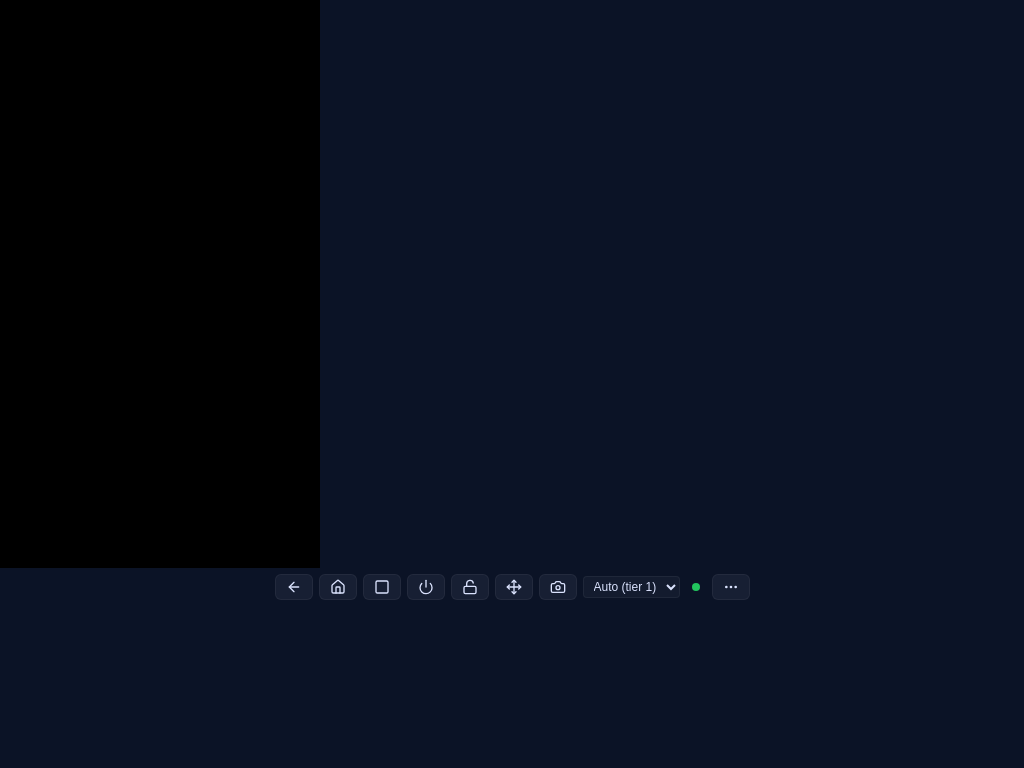
it: DeviceViewer — extraActions › defaults to overflow when placement is omitted
Expected: the button "Silent" is not shown
Click the button with test id "dv-overflow". click: (730, 587)
box: 712,574 -> 750,600
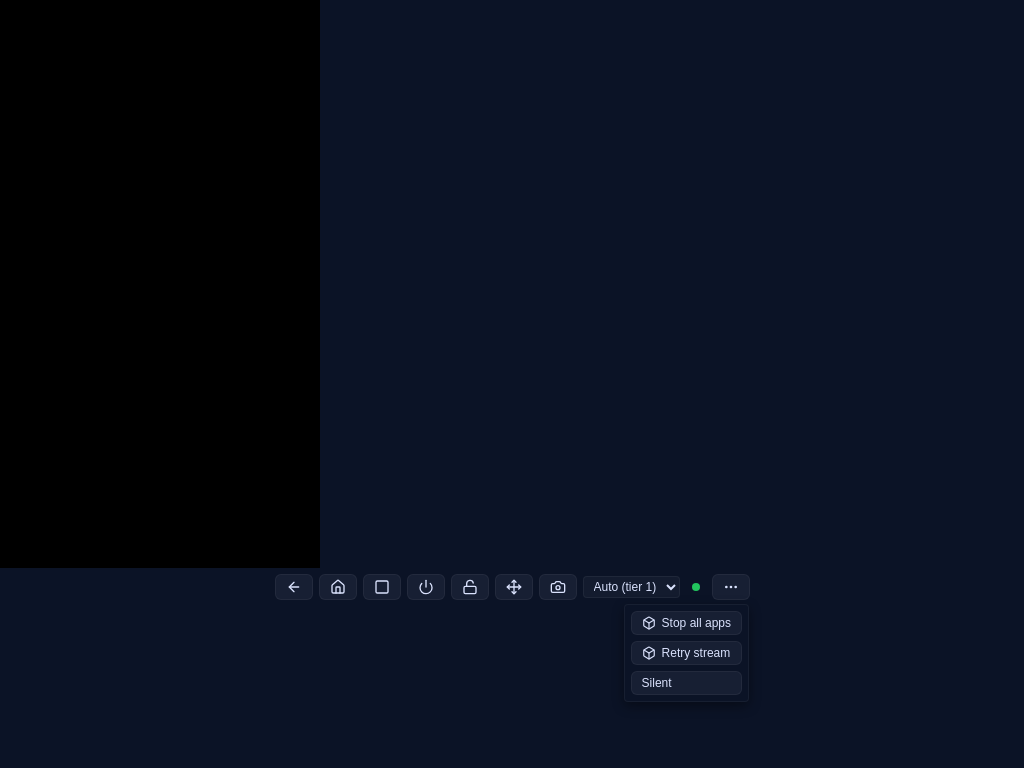
Expected: the button "Silent" is shown, 631,671 -> 742,695
